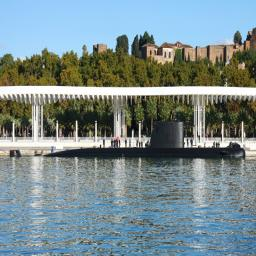submarine: (43, 121, 248, 159)
